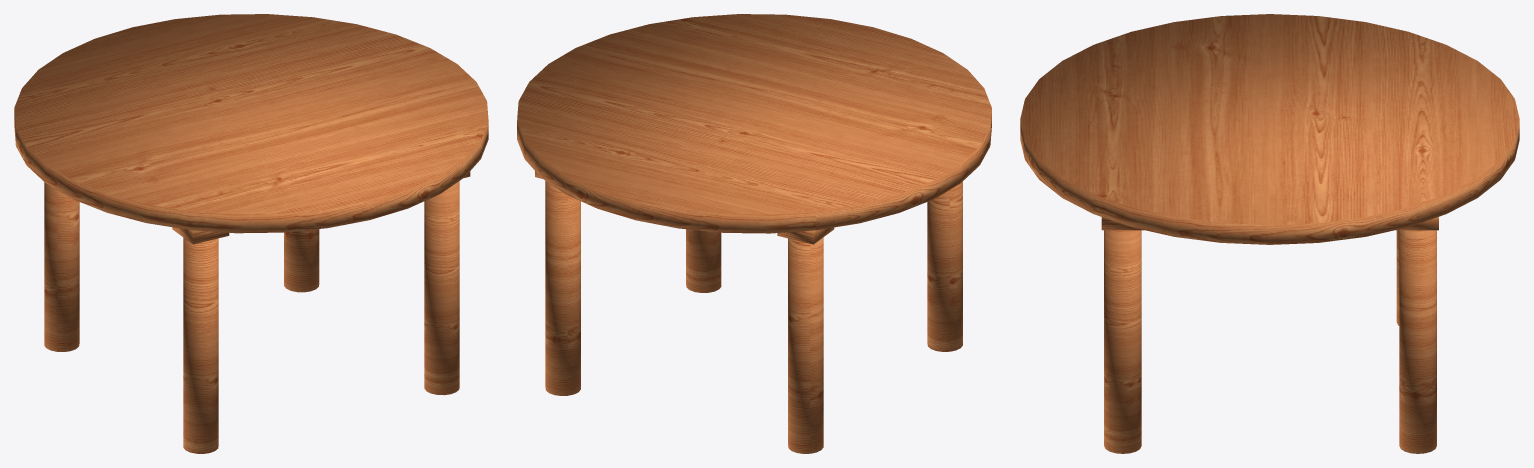
File: circleTable.fbx
3 views of the same model, side by side, from view 1: azimuth 30°, elevation 25°; view 2: azimuth 150°, elevation 25°; view 3: azimuth 270°, elevation 25° (orthographic). The views are drawn at different scales.
Visible parts, largest first — view 1: Cylinder.004; view 2: Cylinder.004; view 3: Cylinder.004.
Boxes of the visible parts, x1,y1,x2,y2 form: Cylinder.004: (14,14,488,453); Cylinder.004: (517,14,991,453); Cylinder.004: (1020,14,1519,453).
Bounding box in the file's own units: 100 × 58.55 × 100.
